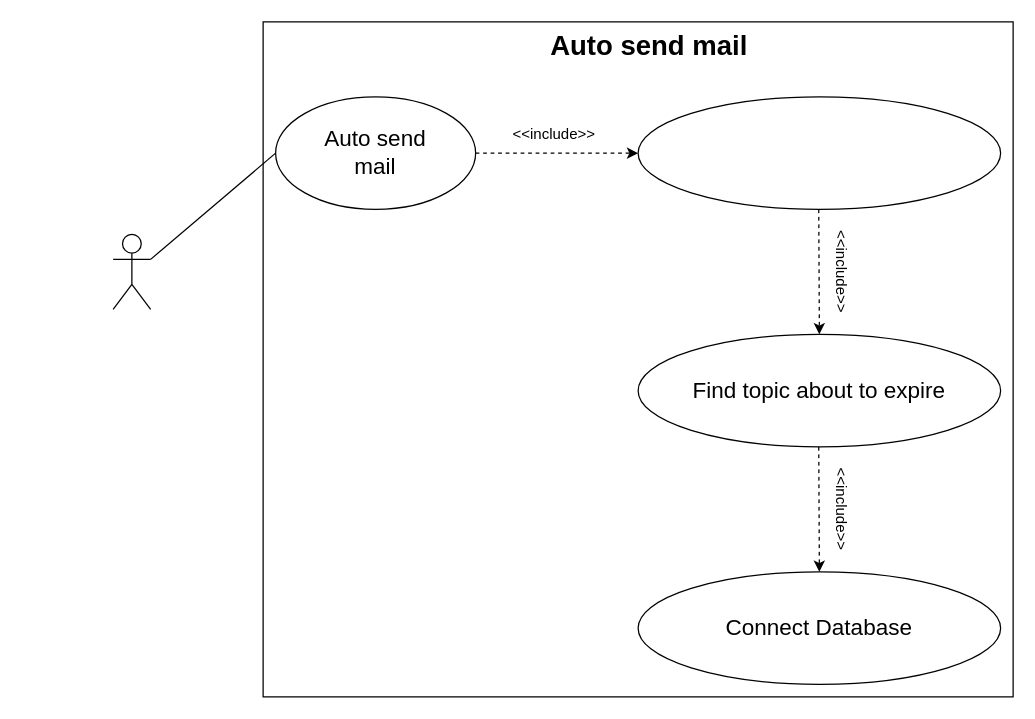
Some shapes in this 1035 by 719 pixel diagram are drawn without their labels. The shapes that lost their labels are listed below. From the top down, each one's box as (x1, y1, x2, y2) in pixels, then its label:
(637, 96, 1001, 209): Find mail to send
(112, 233, 151, 309): AutoSendMail System
